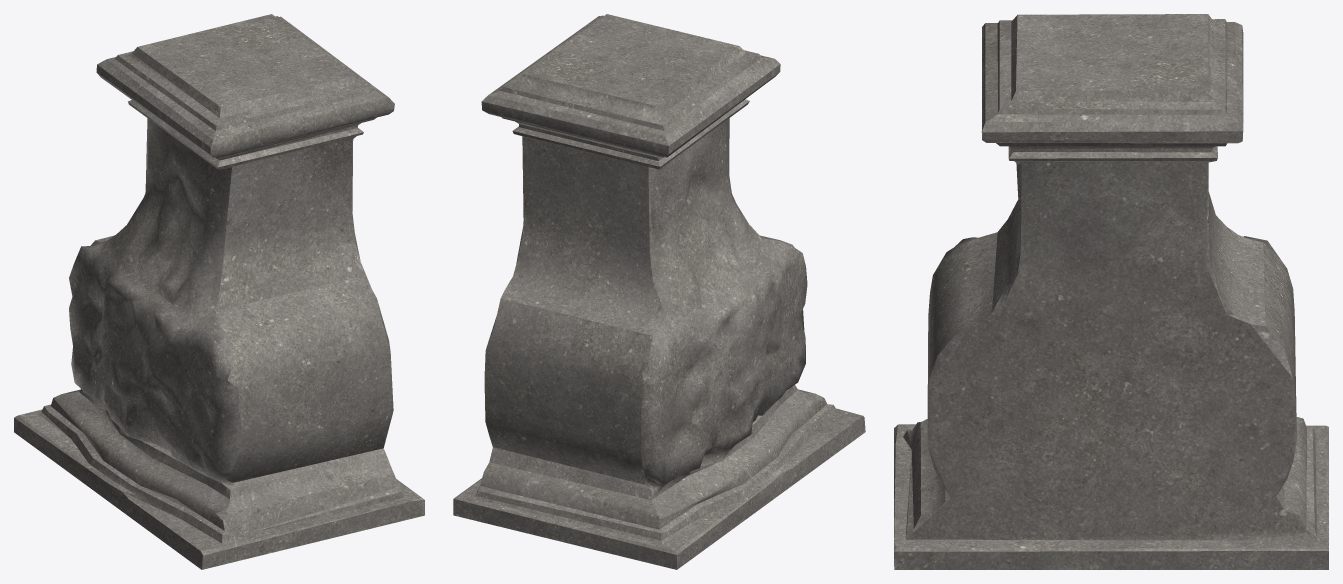
Rendered from SM_Statue_Base_1.fbx.
The picture shows the model from 3 angles, left to right: view 1: azimuth 30°, elevation 25°; view 2: azimuth 150°, elevation 25°; view 3: azimuth 270°, elevation 25°; orthographic projection. The views are drawn at different scales.
Visible parts, largest first — view 1: SM_Statue_Base_1_LOD0; view 2: SM_Statue_Base_1_LOD0; view 3: SM_Statue_Base_1_LOD0.
Part boxes in pixels (x1=…): SM_Statue_Base_1_LOD0: x1=14, y1=14, x2=424, y2=569; SM_Statue_Base_1_LOD0: x1=453, y1=14, x2=865, y2=569; SM_Statue_Base_1_LOD0: x1=894, y1=14, x2=1328, y2=569.
Bounding box in the file's own units: 163 × 229 × 273.
